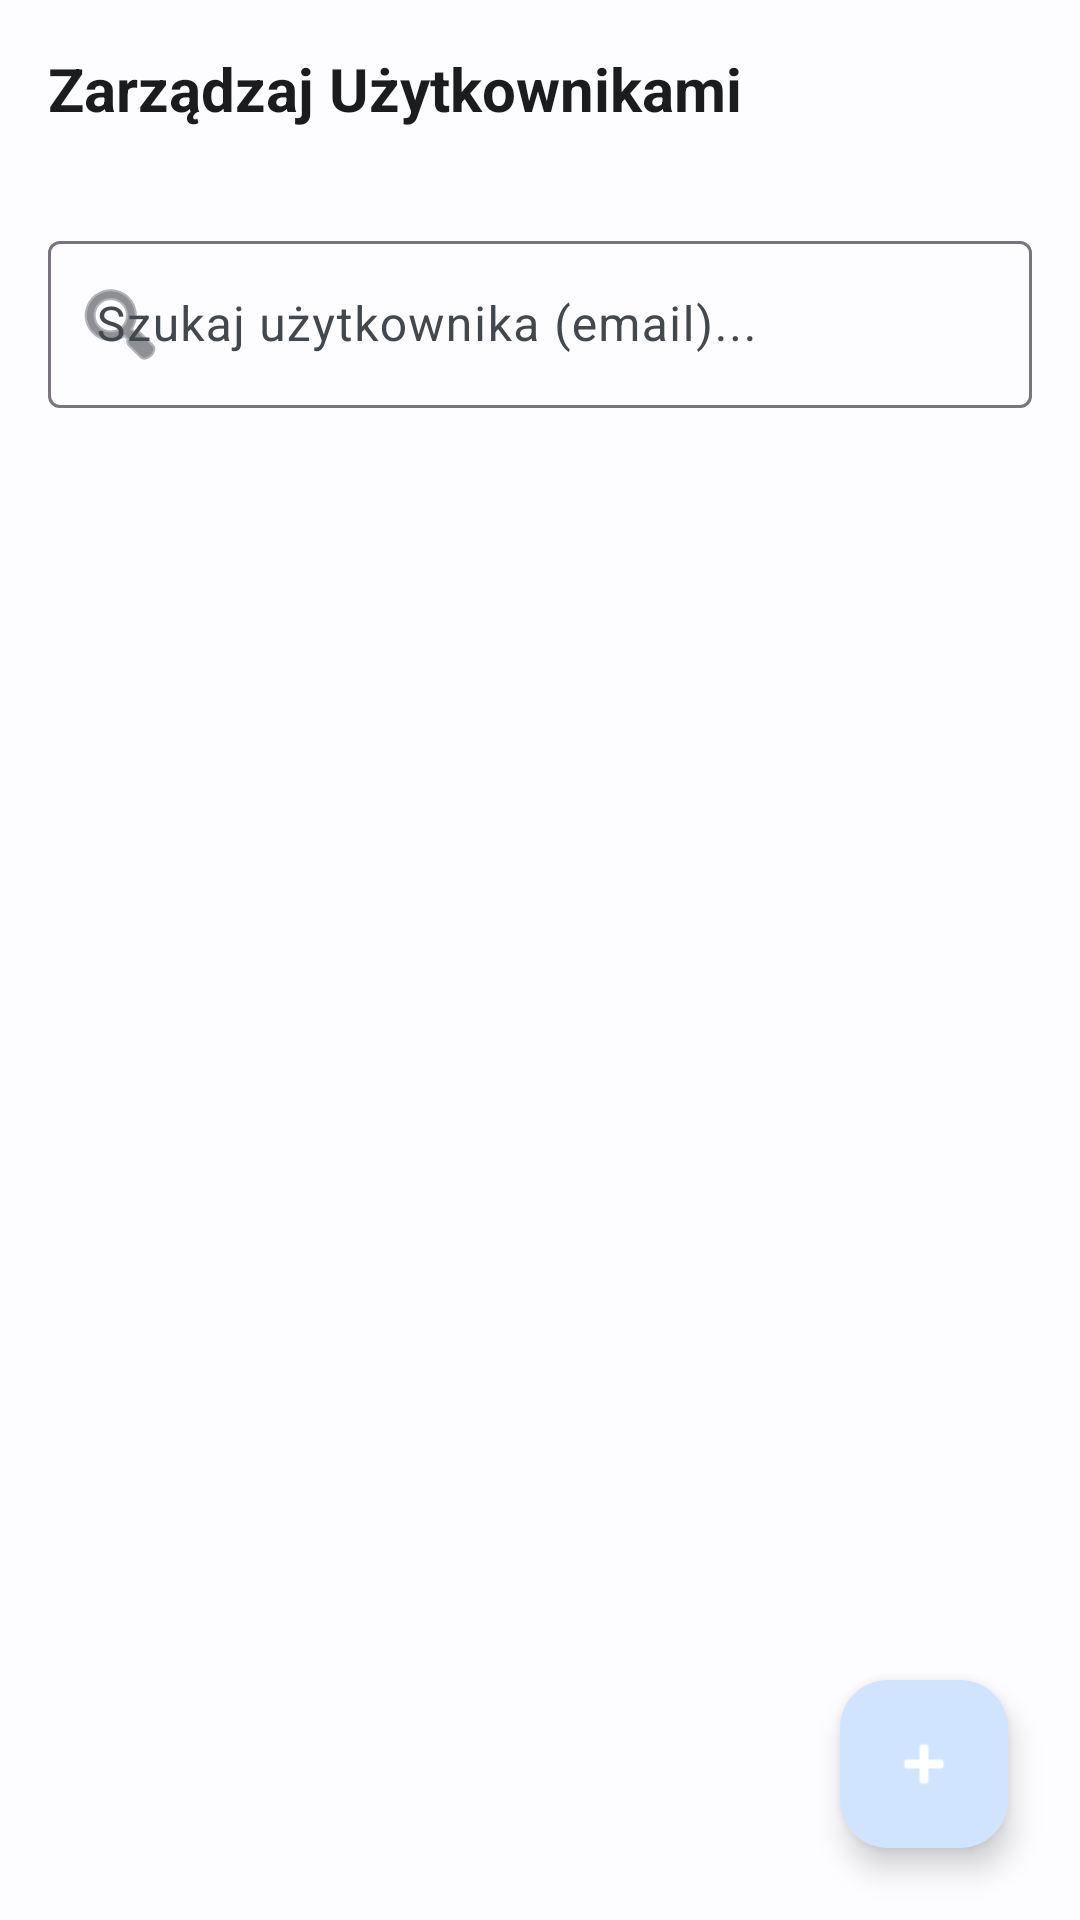

Icon click points for this 1080px x 1920px phone screenshot, format point (x, y):
Dodaj użytkownika: point (924, 1764)
